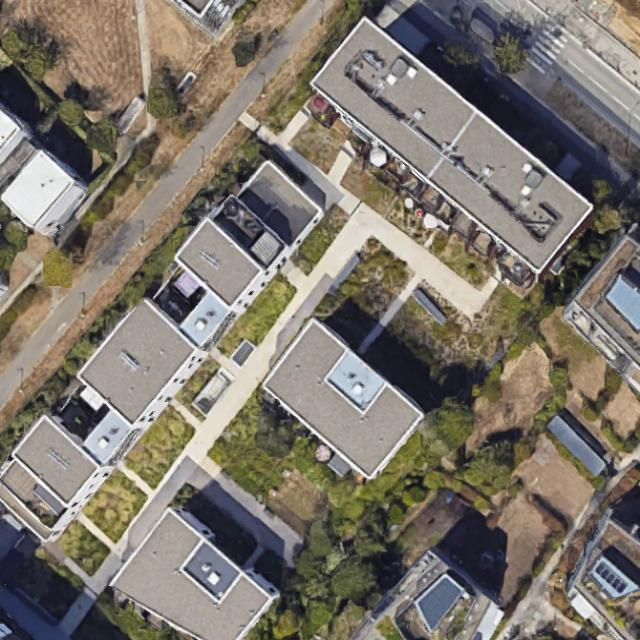immeuble: (0, 158, 328, 543), (302, 3, 601, 292), (254, 316, 429, 484), (109, 498, 288, 640), (348, 545, 504, 640), (565, 224, 639, 393), (565, 508, 639, 640), (0, 148, 92, 243), (165, 0, 245, 38), (468, 544, 506, 578)
